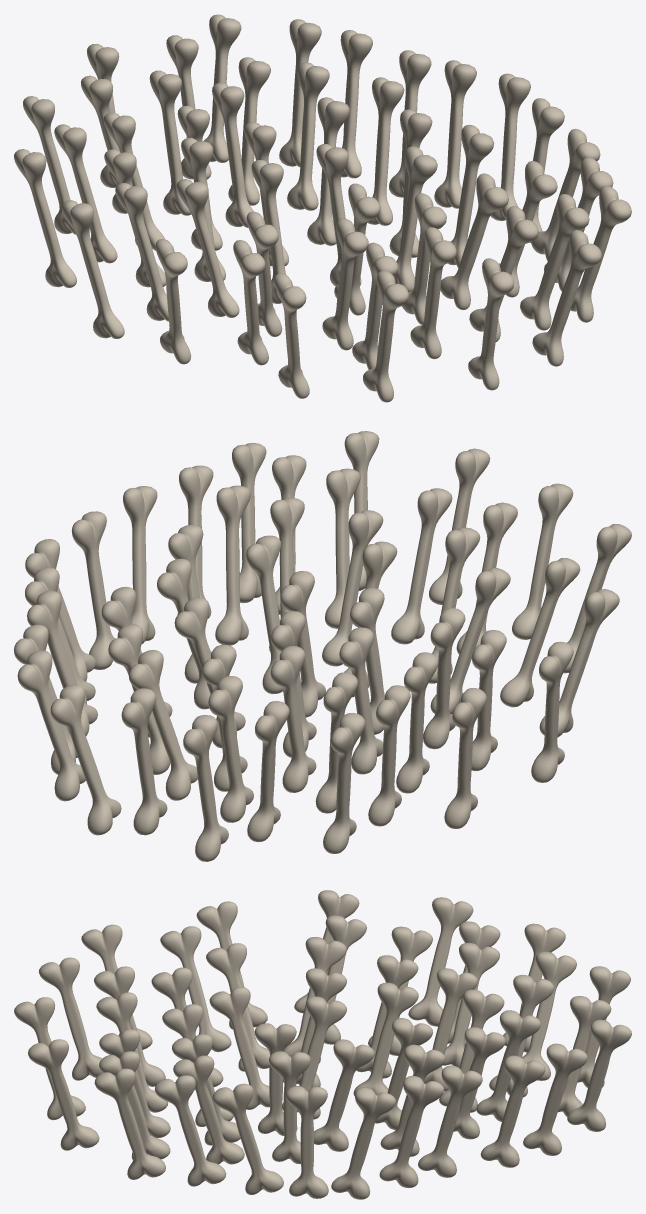
The model's file is bonemation ground.fbx.
3 views of the same model, one above another, from view 1: azimuth 30°, elevation 25°; view 2: azimuth 150°, elevation 25°; view 3: azimuth 270°, elevation 25° (orthographic). The views are drawn at different scales.
Parts seen in each view (by area): view 1: bone57; view 2: bone57; view 3: bone57.
Part boxes in pixels (x1=…): bone57: x1=14, y1=14, x2=631, y2=402; bone57: x1=14, y1=431, x2=631, y2=861; bone57: x1=14, y1=890, x2=631, y2=1199.
Bounding box in the file's own units: 3.94 × 1.07 × 4.97.
